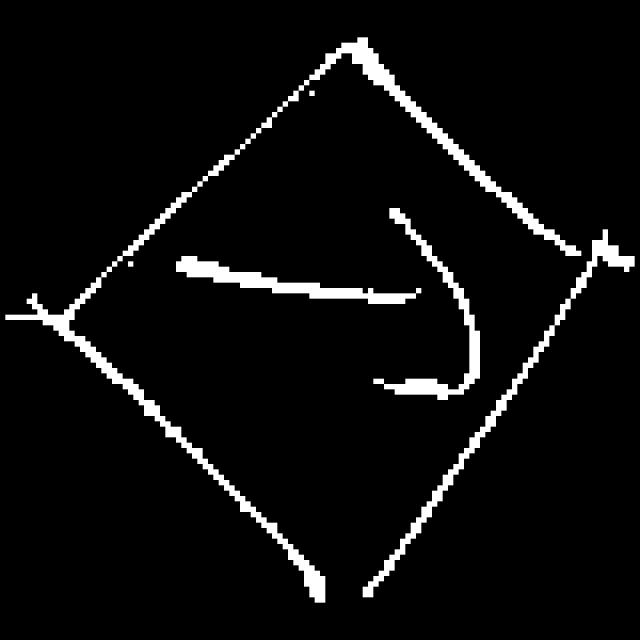dependant_current: (52, 26, 595, 618)
